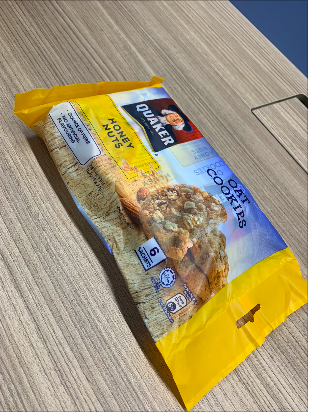Cookies_100-199g: (88, 102, 239, 290)
